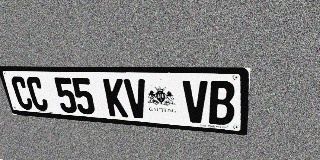5: (53, 77, 78, 114), (71, 78, 96, 115)
B: (208, 81, 235, 126)
C: (25, 77, 50, 111), (10, 76, 34, 110)
K: (103, 78, 128, 117)
V: (182, 80, 208, 124), (123, 79, 149, 119)
